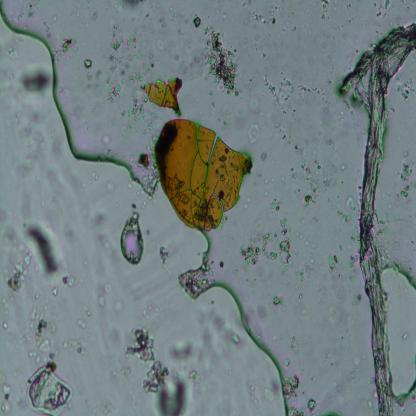Air bubble: (0, 0, 156, 194), (174, 232, 292, 414), (381, 264, 416, 398), (118, 214, 146, 266)
Background material: (126, 324, 190, 416), (169, 302, 228, 366), (107, 28, 153, 101), (288, 154, 342, 210), (202, 26, 241, 98), (262, 75, 323, 121), (22, 302, 59, 370), (242, 218, 292, 268), (15, 110, 50, 180), (25, 368, 76, 415), (23, 218, 65, 274), (44, 126, 73, 197), (3, 242, 34, 298), (178, 255, 220, 296), (13, 62, 56, 97), (335, 354, 364, 401), (86, 212, 112, 256), (136, 294, 166, 326), (292, 262, 321, 294), (398, 152, 416, 199), (176, 49, 204, 78), (276, 124, 302, 155), (259, 182, 284, 213), (326, 304, 350, 336), (122, 95, 143, 129), (90, 171, 118, 196), (92, 123, 113, 154), (60, 336, 88, 356), (107, 322, 124, 354), (322, 247, 340, 276), (96, 278, 112, 309), (53, 37, 74, 60), (262, 378, 281, 403), (284, 372, 300, 401), (342, 193, 356, 226), (133, 147, 153, 170), (84, 70, 103, 93), (0, 378, 12, 414), (395, 79, 414, 101), (152, 11, 172, 31), (157, 243, 171, 271), (247, 121, 263, 145), (1, 43, 22, 61), (116, 0, 144, 13), (58, 272, 80, 287), (24, 0, 38, 23), (372, 1, 389, 19), (228, 330, 245, 348), (364, 392, 378, 413), (257, 148, 270, 168), (254, 14, 275, 26), (257, 308, 269, 328), (320, 1, 330, 24), (306, 397, 320, 412), (272, 293, 284, 308), (0, 318, 12, 332), (76, 317, 87, 330), (115, 303, 125, 315), (84, 57, 93, 70), (253, 100, 261, 114), (123, 369, 132, 381), (192, 15, 201, 26), (51, 286, 60, 296)
Cellulose filter fibre: (341, 22, 416, 414)
